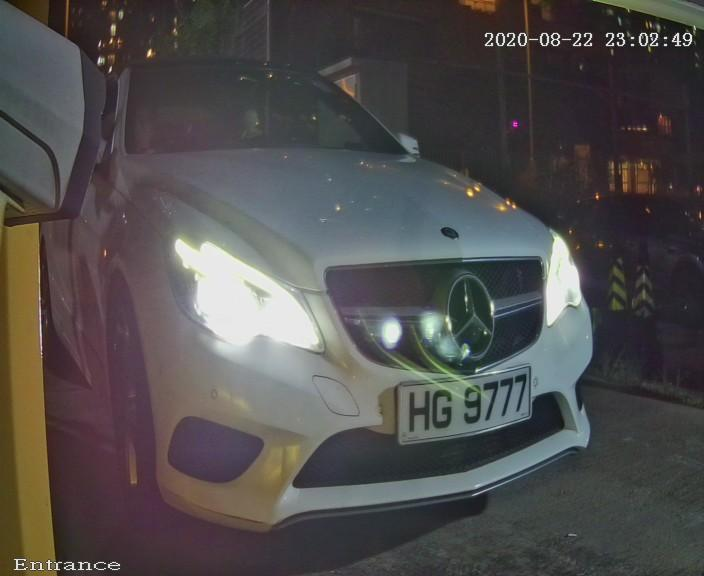Car: (35, 1, 648, 574)
License Plate: (366, 338, 554, 461)
